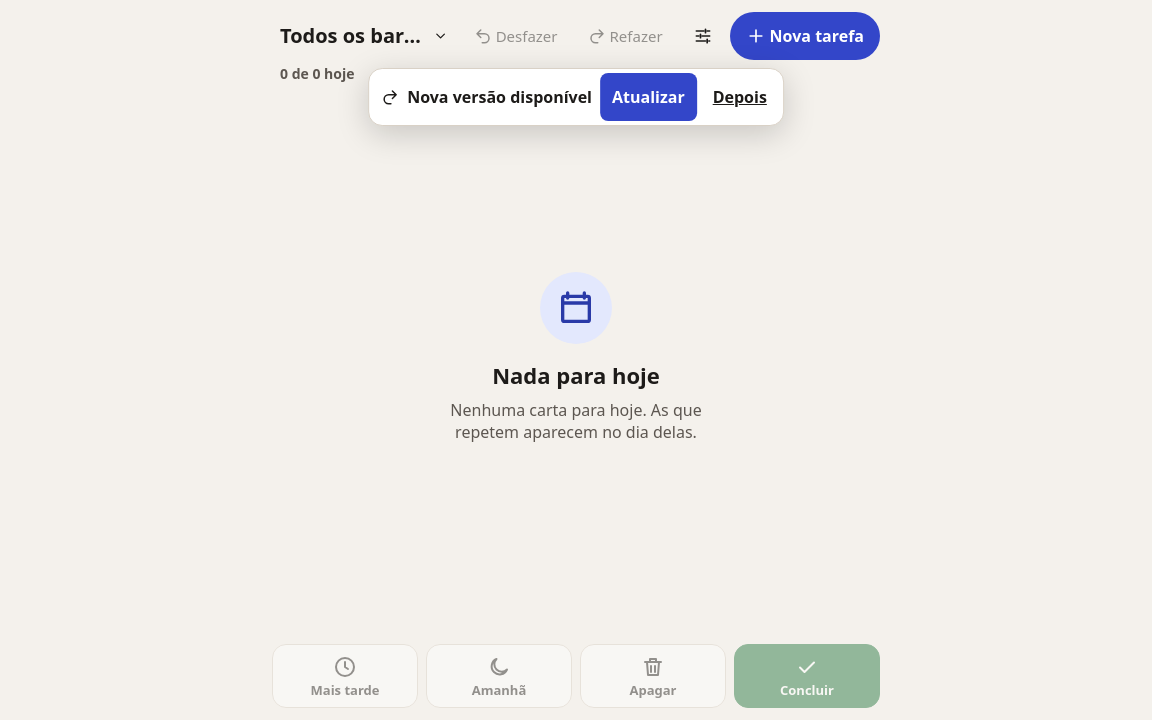
Test: update prompt › is not offered while a sheet (or a form) is open, and comes back after it closes
The image size is (1152, 720).
Click the button "Nova tarefa": (805, 36) [730,12,880,60]
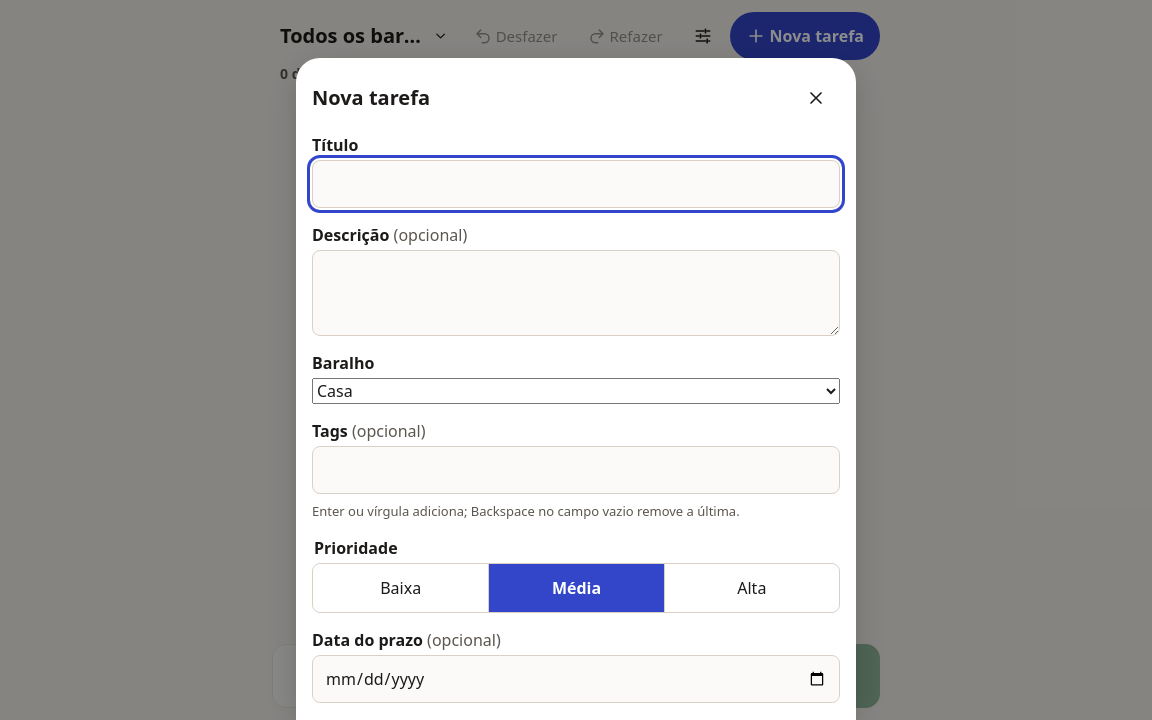
In the field labelled "Título": (576, 184) [312,160,840,208], type "Rascunho"
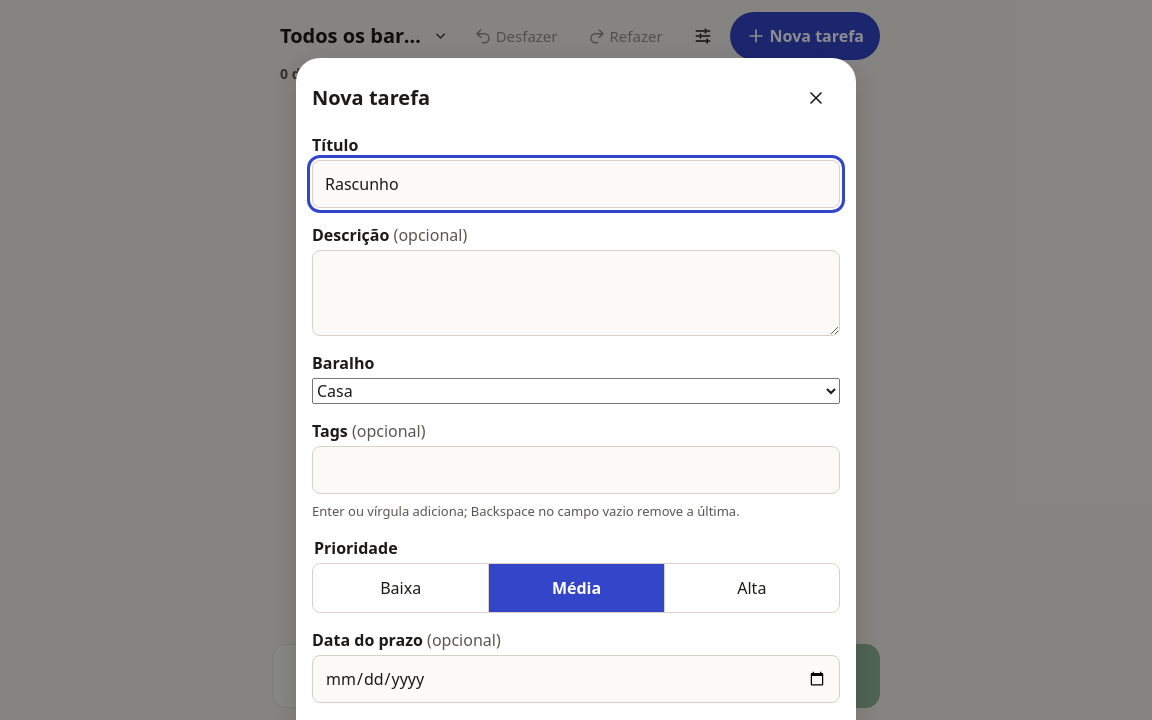
Press Escape
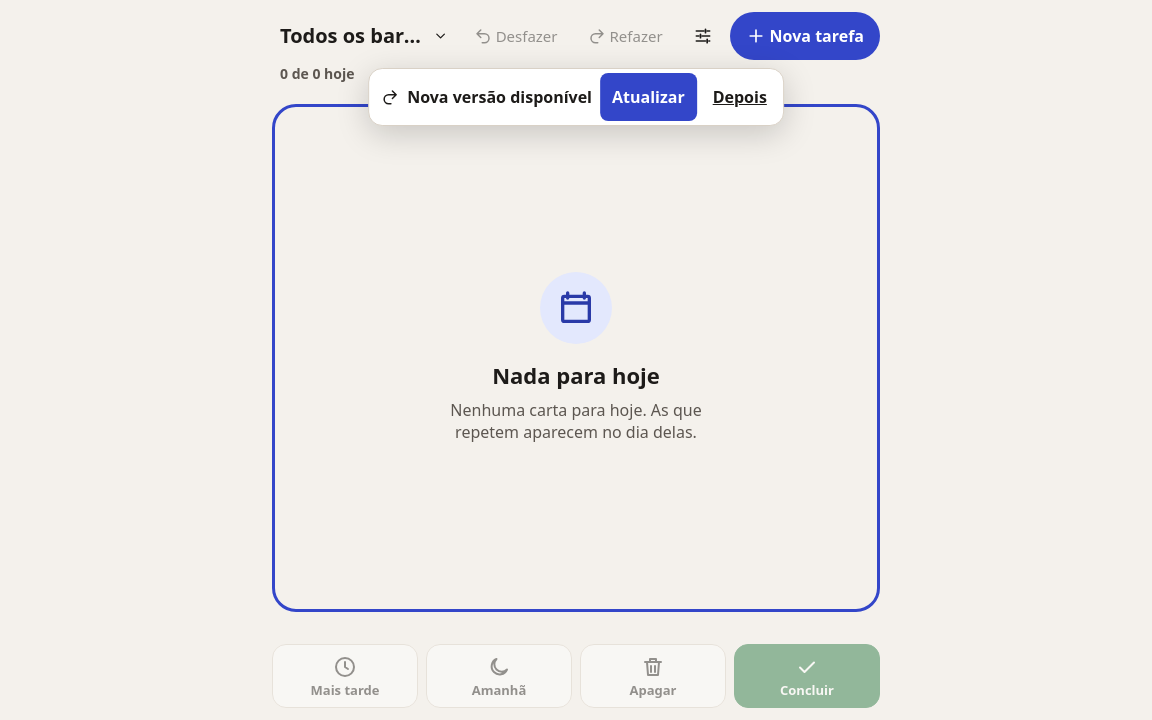
Expected: the element with test id "update-toast" is shown, [368,68,784,126]
